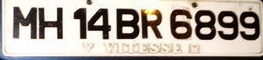character: (11, 5, 37, 39), (37, 6, 63, 40), (86, 6, 112, 40), (114, 6, 140, 40), (139, 5, 163, 39), (169, 8, 193, 41), (193, 8, 217, 41), (238, 10, 261, 41), (216, 9, 238, 40), (72, 6, 88, 40)
